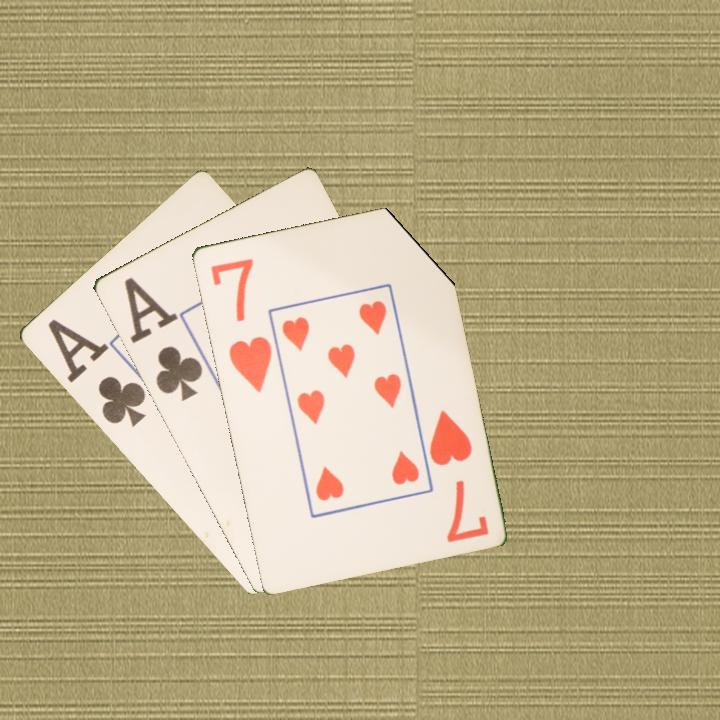7h: (207, 254, 275, 395), (425, 406, 491, 545)
Ac: (43, 315, 149, 430), (120, 273, 206, 404)
